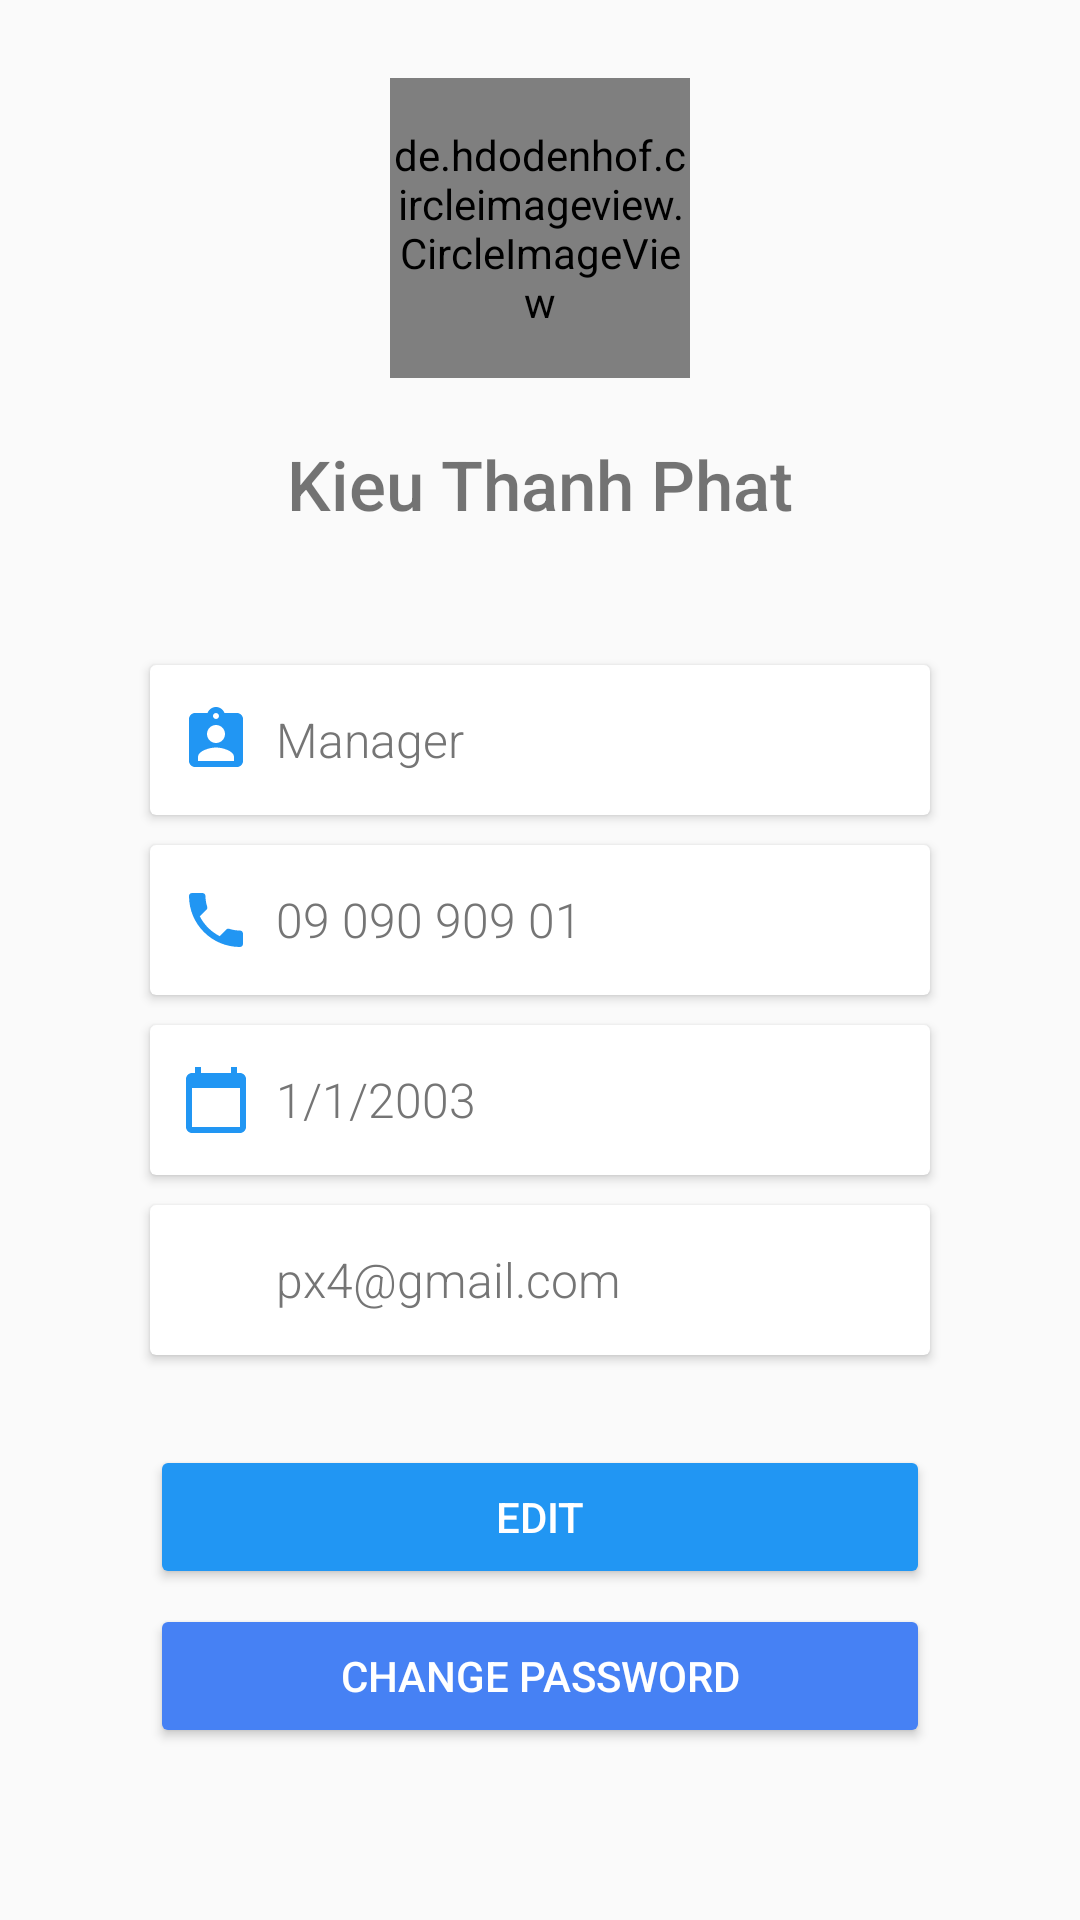

Locate icon controls on the screen. Image size 1080px×1920px, boxes as (x1, y1, x2, y2).
calender: (186, 1067, 246, 1133)
person role: (189, 707, 243, 767)
phone: (189, 893, 243, 947)
